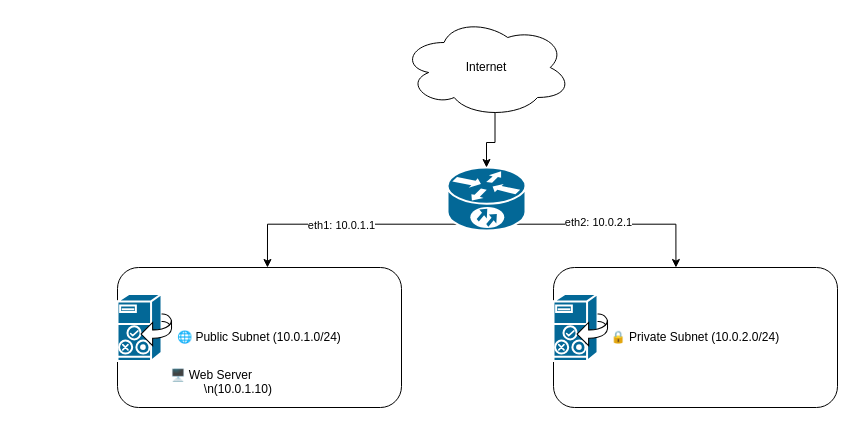
The diagram is 855 pixels wide and 425 high, and some of its shapes have lost their labels. Here are the shapes that lost their labels. From the top down, the centre of each, then its label:
At [486,198]: "Firewall / Router".
At [580,327]: "🗄️ Database Server \n(10.0.2.50)".
